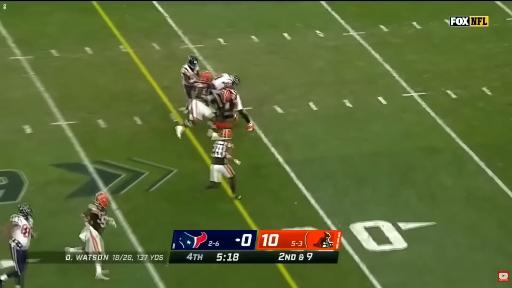Helmet: (222, 89, 237, 103), (18, 203, 32, 218), (95, 192, 109, 207), (200, 71, 213, 82), (188, 55, 198, 69), (220, 129, 232, 139), (232, 75, 239, 86)
Jersey: (11, 215, 33, 249), (84, 204, 107, 234), (212, 89, 238, 114), (192, 71, 211, 103), (211, 140, 233, 165), (212, 74, 233, 93), (181, 64, 199, 85)
Player: (175, 71, 226, 138), (66, 192, 116, 254), (0, 204, 35, 287), (207, 129, 241, 199), (212, 89, 254, 132), (181, 55, 199, 112), (209, 72, 240, 94)
